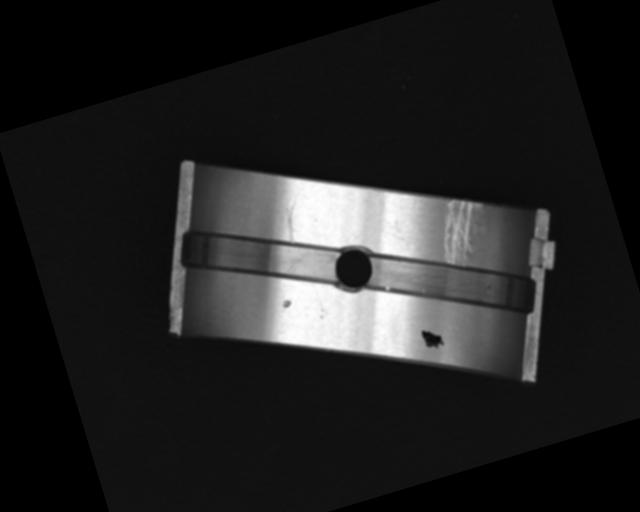blot: (418, 324, 446, 352)
bruise: (280, 299, 292, 309)
gap: (361, 217, 543, 355), (173, 193, 348, 318)
hole: (327, 242, 378, 295)
nick: (277, 196, 308, 243)
scratch: (429, 193, 495, 267)
